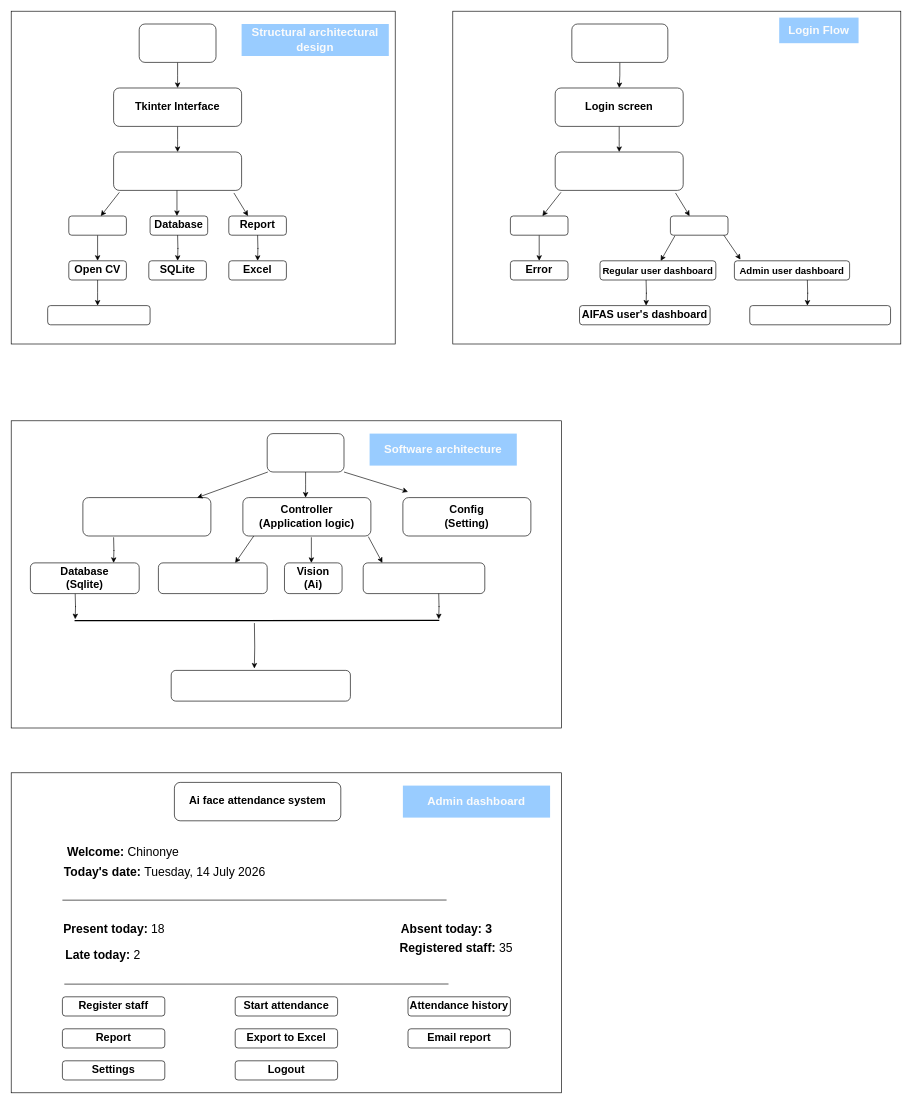
Some shapes in this 912 by 1104 pixel diagram are drawn without their labels. The shapes that lost their labels are listed below. From the top down, each one's centre as x and y in pixels, then its label:
At (177,42): "User".
At (619,42): "Start application".
At (177,170): "Attendance Controller".
At (619,170): "Credential validation?".
At (97,225): "Camera".
At (539,225): "No".
At (699,225): "Yes".
At (98,315): "Face Recognition".
At (820,315): "AIFAS admin's dashboard".
At (305,452): "main.py".
At (146,516): "UI (Tkinter window)".
At (212,578): "Camera (Open CV)".
At (424,578): "Attendance (Business logic)".
At (260,685): "Reports (Excel / CSV / PDF)".
